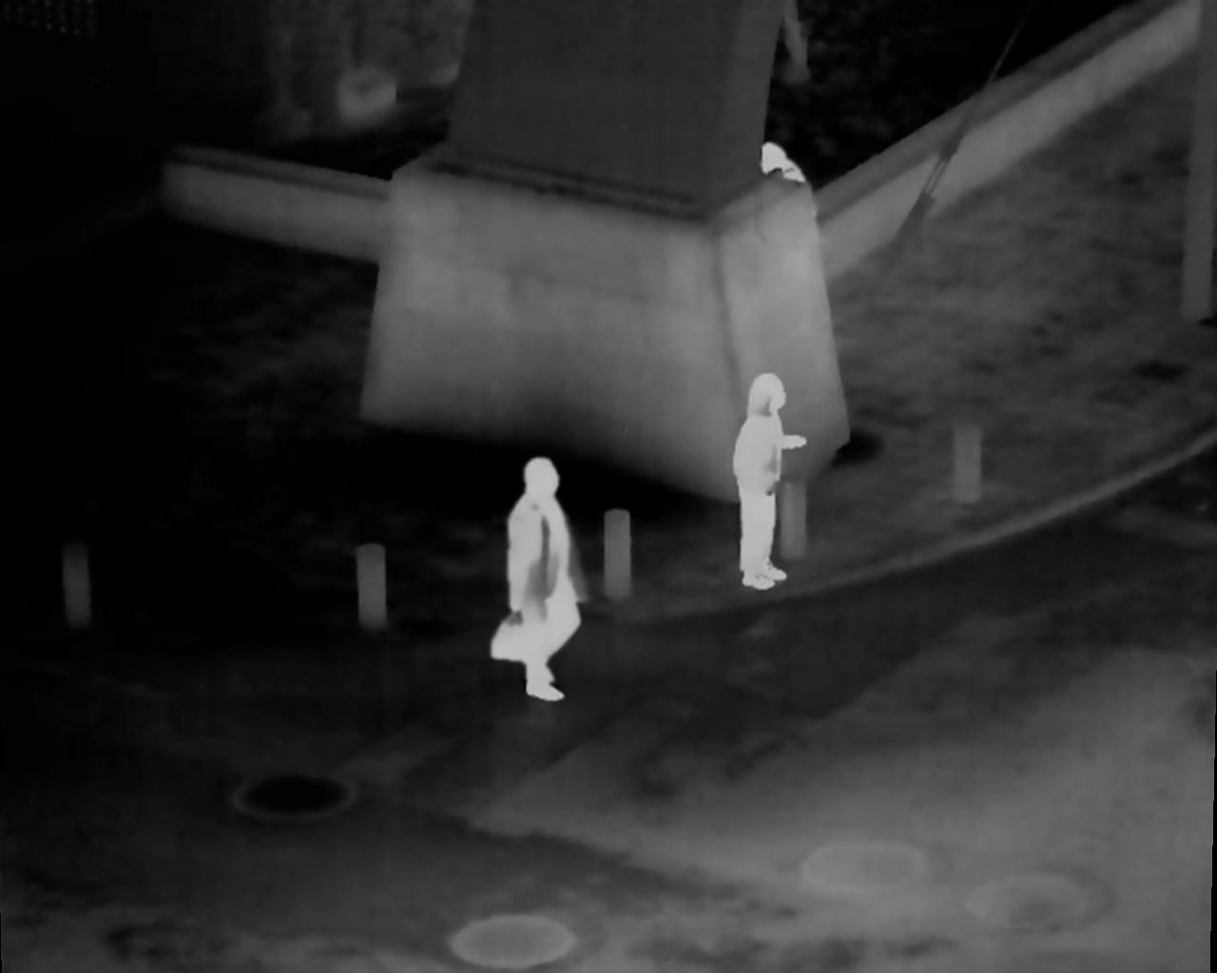person: (490, 454, 583, 706), (731, 372, 804, 593)
